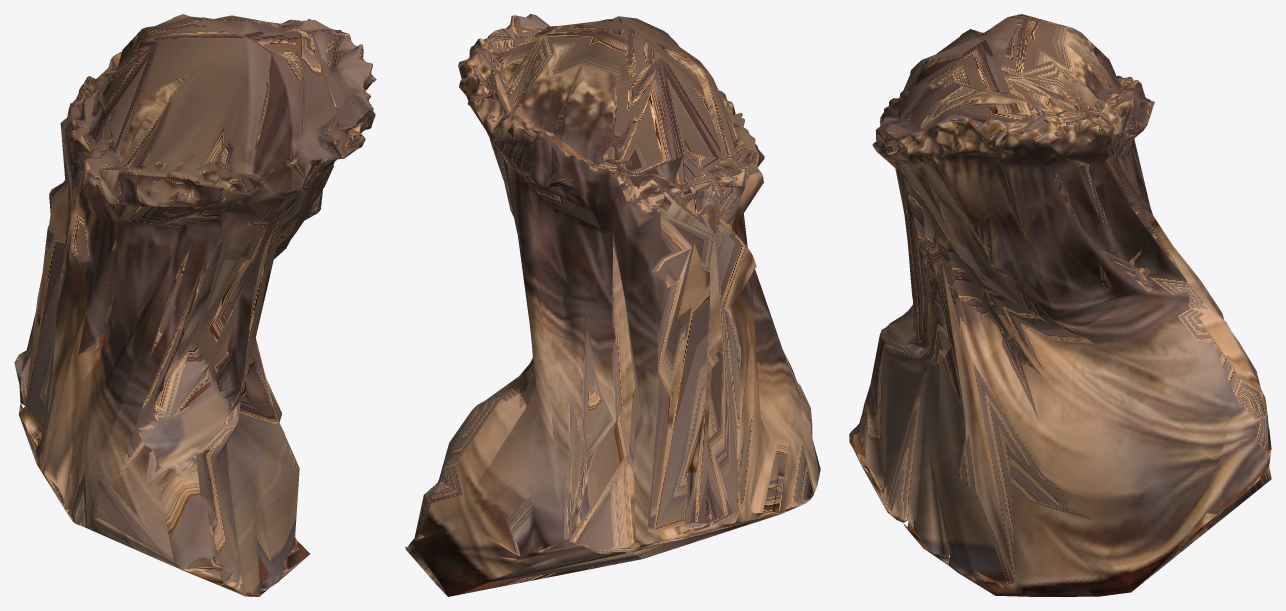
Rendered from st_masky_lady.glb.
3 renders of one model, left to right at view 1: azimuth 30°, elevation 25°; view 2: azimuth 150°, elevation 25°; view 3: azimuth 270°, elevation 25°, orthographic. The views are drawn at different scales.
Visible parts, largest first — view 1: CREEPY_LADY_PG_EX2; view 2: CREEPY_LADY_PG_EX2; view 3: CREEPY_LADY_PG_EX2.
Boxes of the visible parts, x1=… form: CREEPY_LADY_PG_EX2: x1=14, y1=14, x2=376, y2=596; CREEPY_LADY_PG_EX2: x1=405, y1=14, x2=820, y2=596; CREEPY_LADY_PG_EX2: x1=849, y1=14, x2=1271, y2=596.
Size of the model in its own units: 5.89 by 10.32 by 7.42.
Materials: 1 (1 with a texture image).
